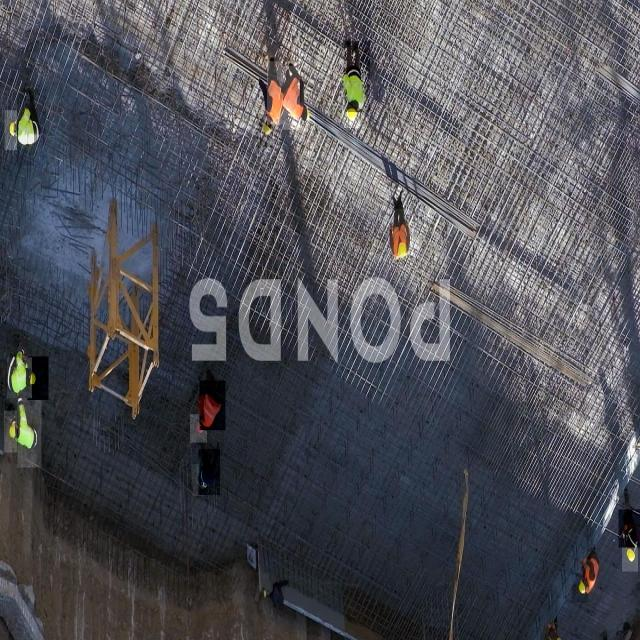Helmet: (17, 89, 46, 165), (18, 390, 42, 468), (344, 41, 370, 112), (198, 449, 220, 495), (7, 358, 32, 398), (28, 356, 48, 400), (618, 510, 640, 548), (342, 94, 360, 128), (4, 410, 17, 452), (256, 114, 272, 148), (394, 234, 410, 265), (190, 414, 207, 443), (572, 572, 588, 602), (622, 542, 638, 572), (5, 110, 17, 150), (300, 102, 315, 132), (192, 464, 205, 496)
Safety Vest: (200, 380, 226, 430), (283, 66, 300, 130), (392, 209, 414, 255), (267, 62, 283, 125), (584, 543, 600, 594)
